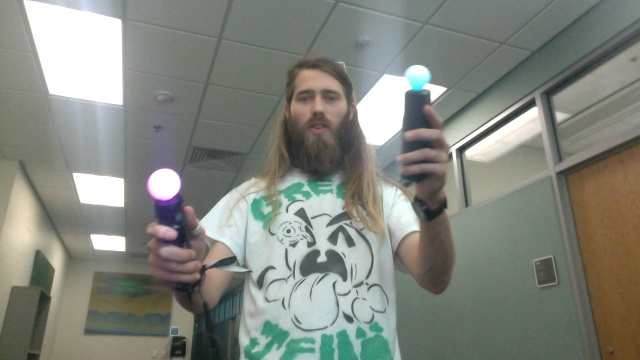wand: (148, 168, 182, 201), (405, 66, 431, 91)
